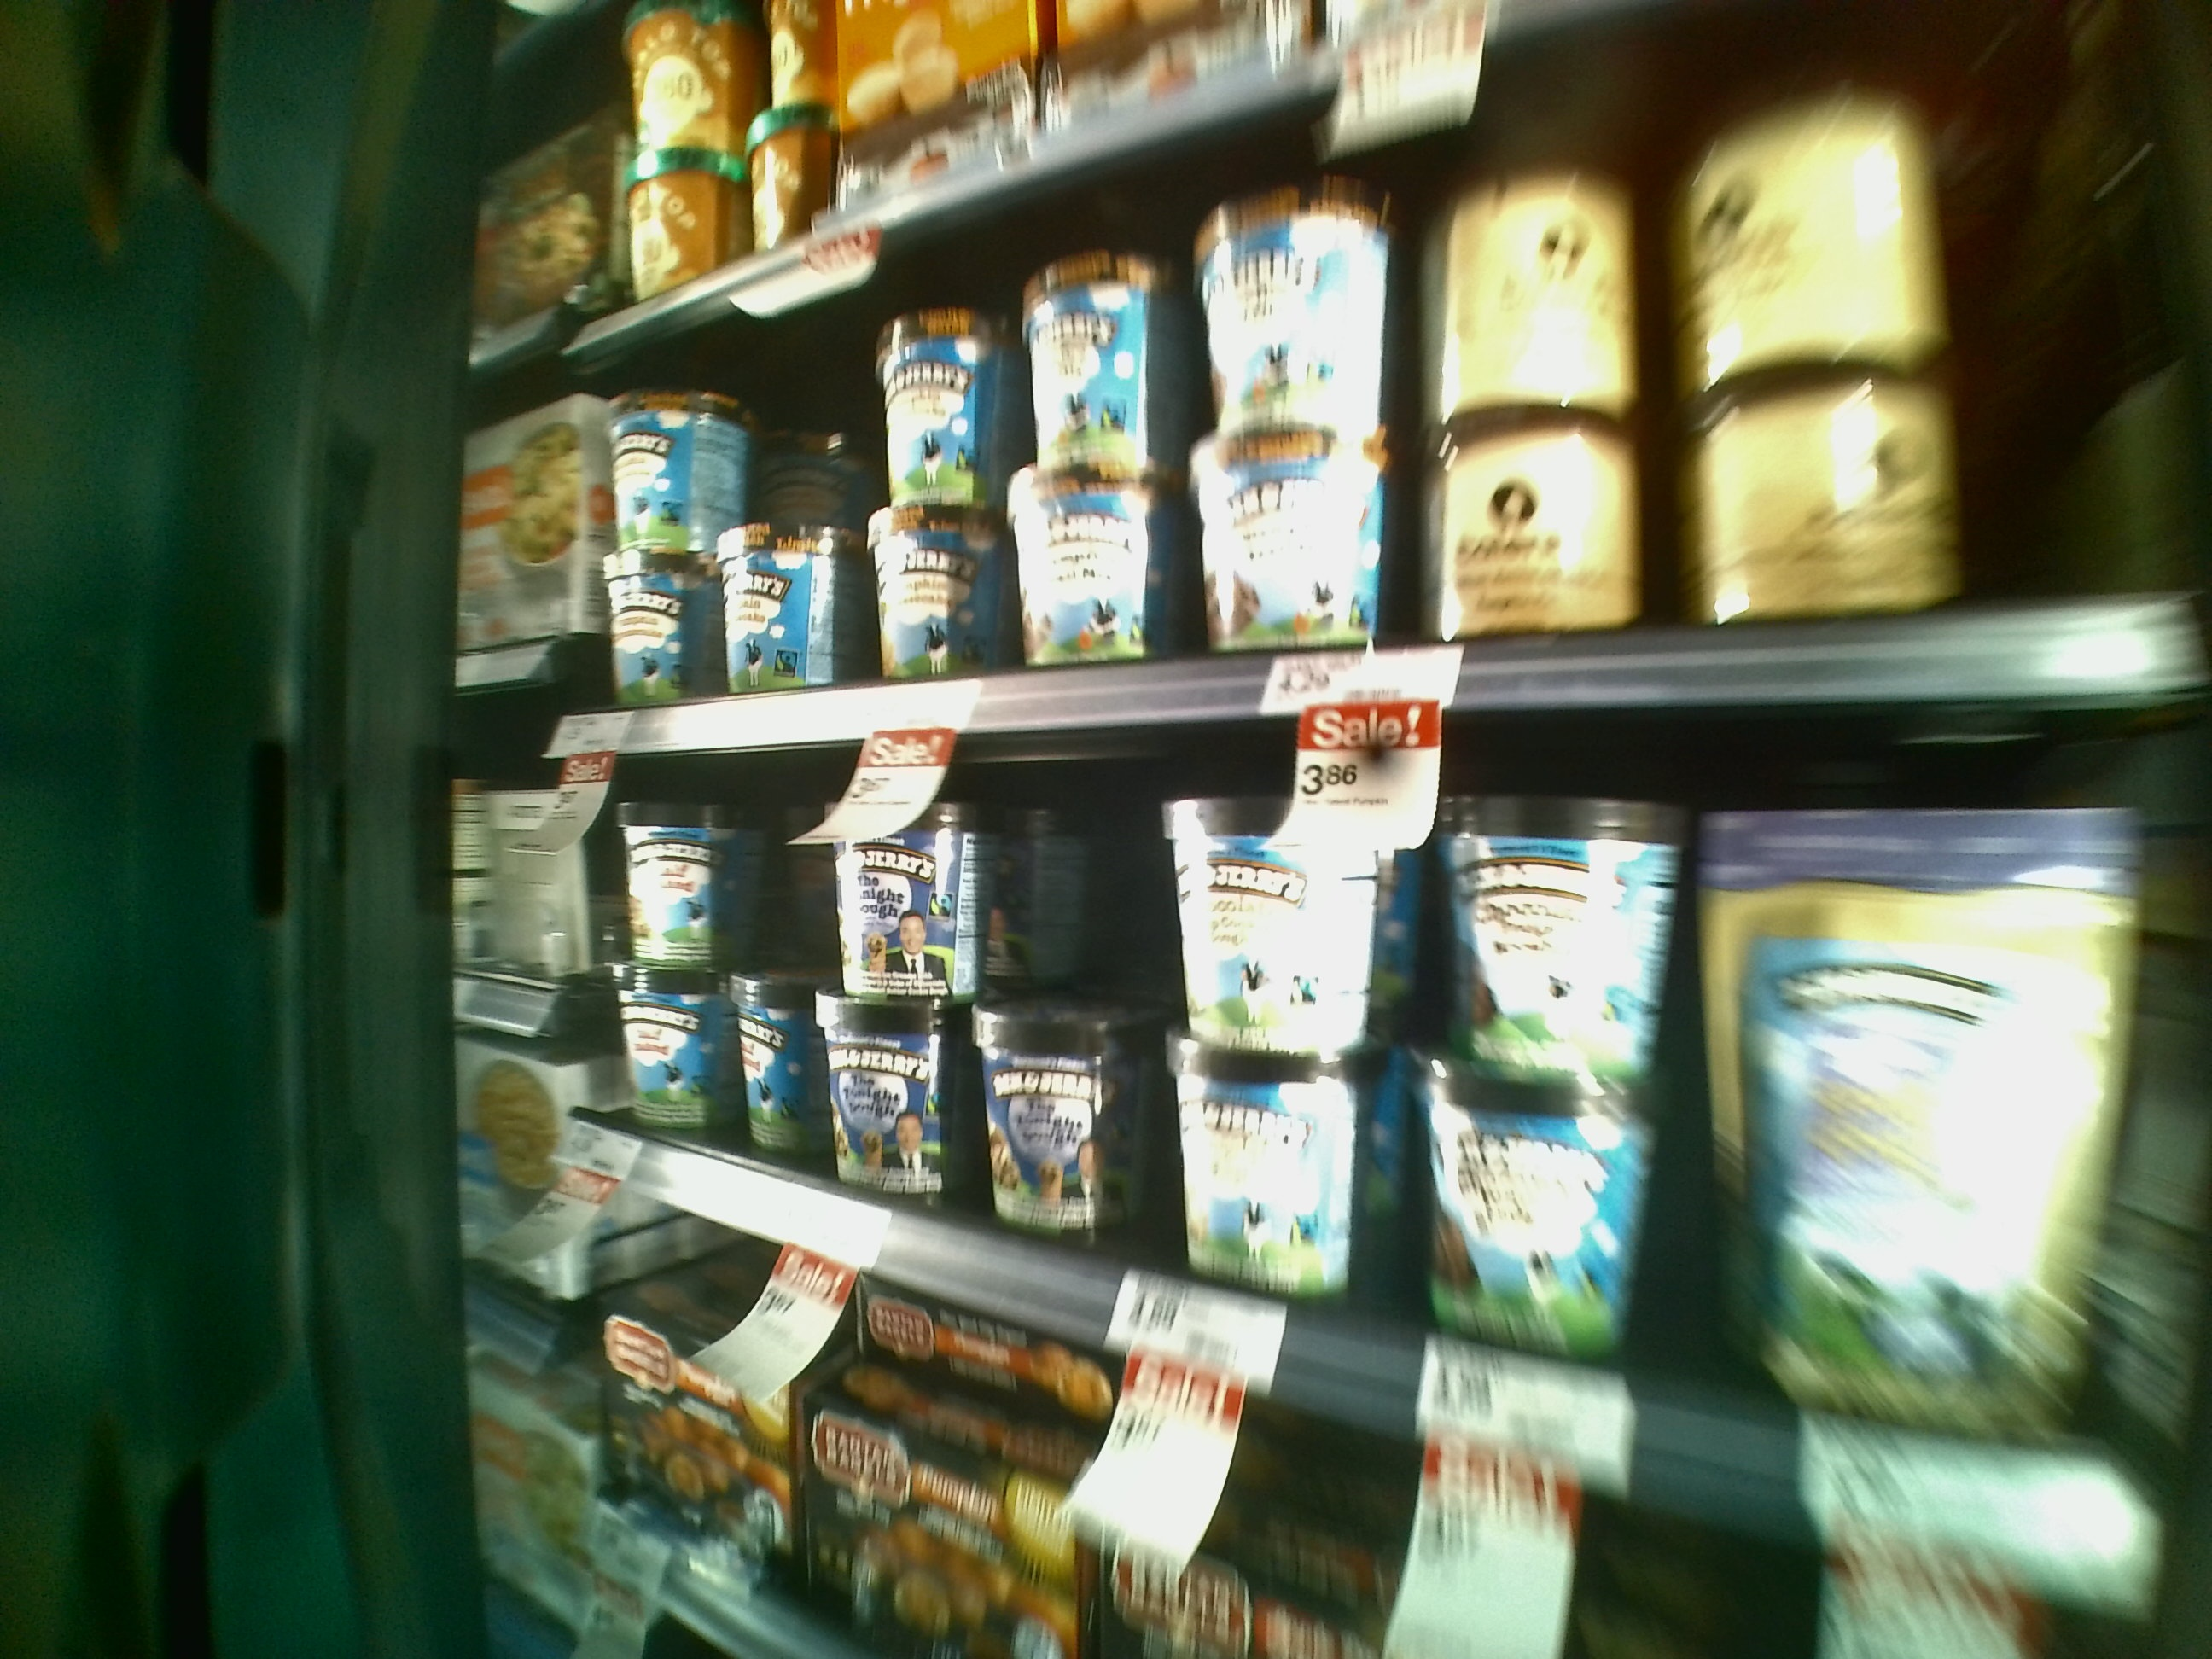shelf: (589, 660, 2170, 1546)
